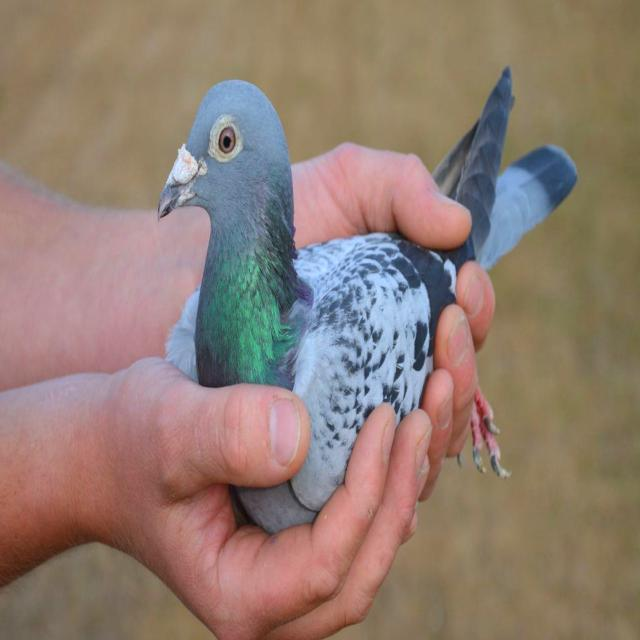pigeon: (158, 70, 576, 533)
